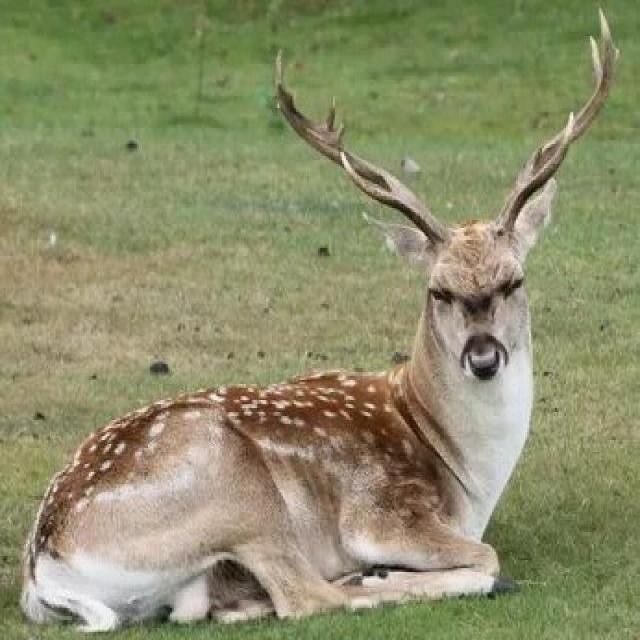deer: (0, 46, 623, 640)
